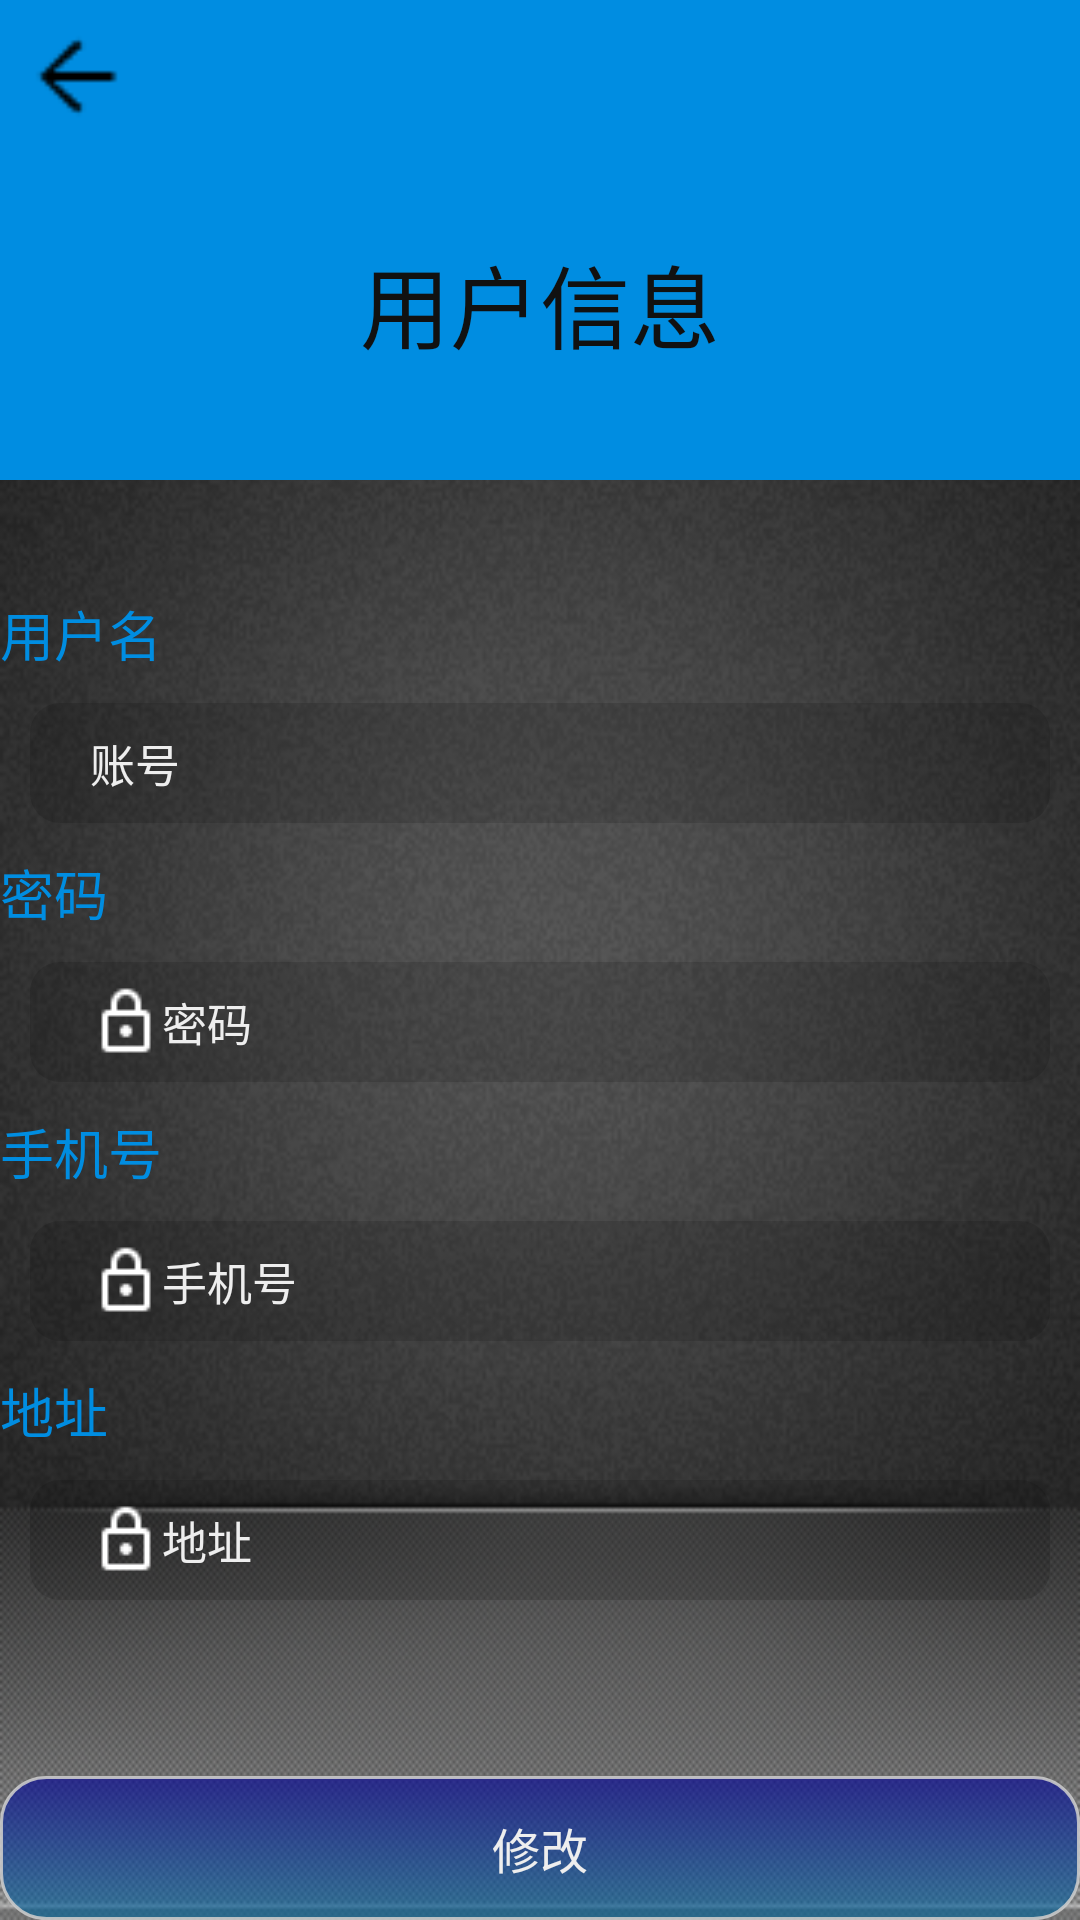

Point at icon controls on the screen. Image size 1080px x 1920px, points as [x,y].
back: [78,76]
